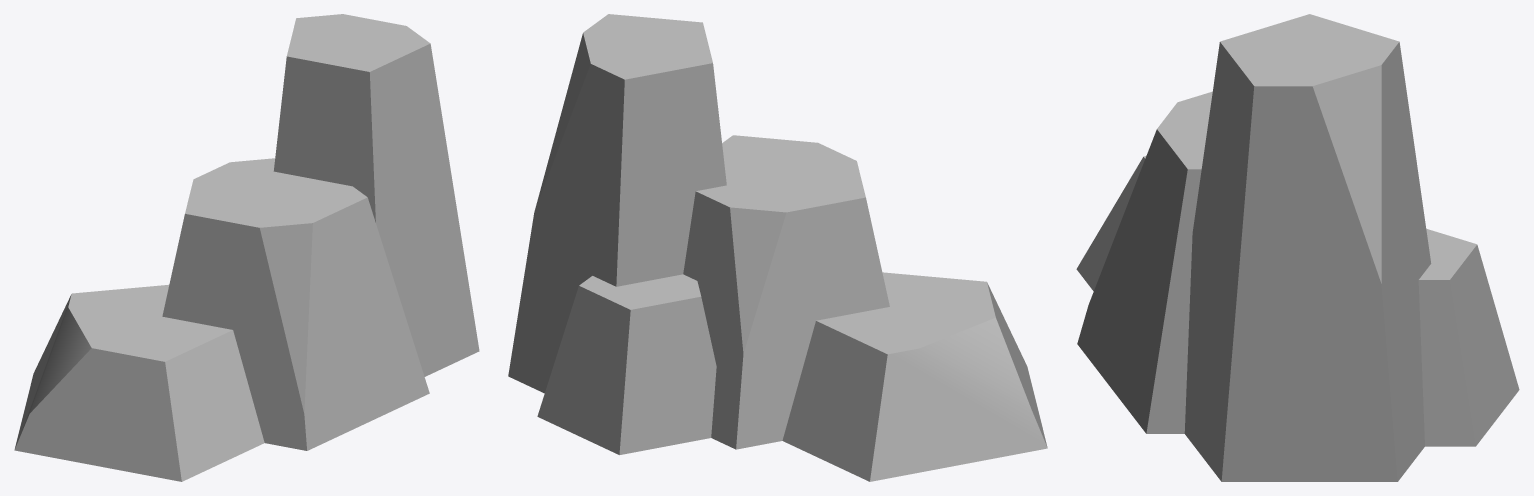
Rendered from rockC3.fbx.
3 views of the same model, side by side, from view 1: azimuth 30°, elevation 25°; view 2: azimuth 150°, elevation 25°; view 3: azimuth 270°, elevation 25° (orthographic). The views are drawn at different scales.
Parts seen in each view (by area): view 1: rockC3; view 2: rockC3; view 3: rockC3.
Boxes of the visible parts, x1=… form: rockC3: x1=14, y1=14, x2=479, y2=481; rockC3: x1=508, y1=14, x2=1047, y2=481; rockC3: x1=1076, y1=14, x2=1519, y2=481.
Bounding box in the file's own units: 220 × 143 × 153.
